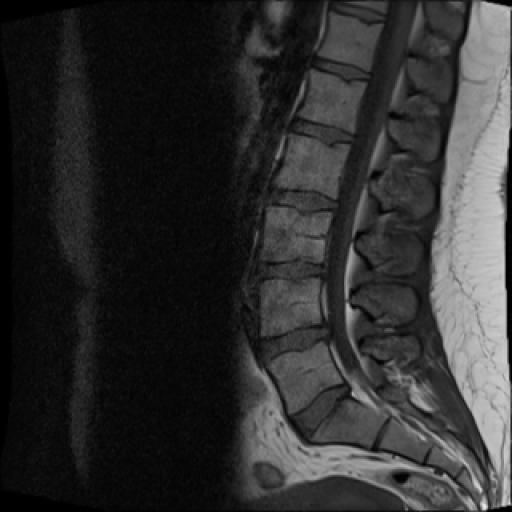L1: (298, 69, 366, 133)
L2: (274, 133, 350, 199)
L3: (260, 206, 332, 263)
L4: (259, 278, 321, 339)
L5: (265, 340, 343, 414)
S1: (307, 397, 387, 448)
